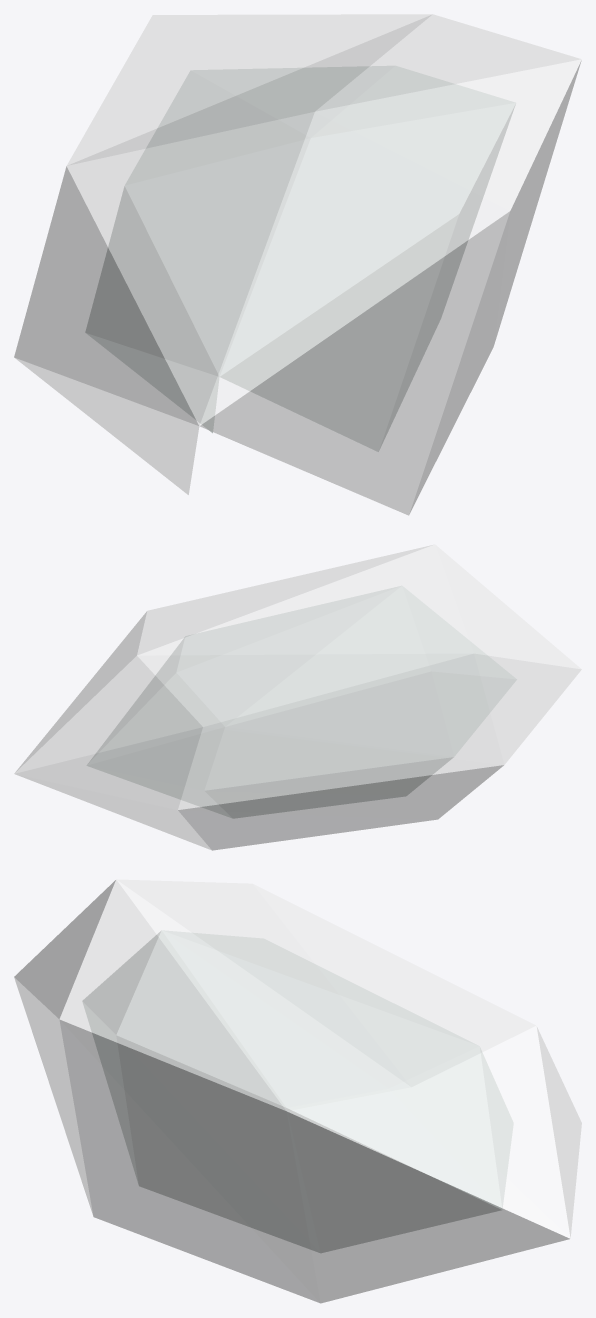
Rendered from crystal-teleport-seed.gltf.
3 renders of one model, top to bottom at view 1: azimuth 30°, elevation 25°; view 2: azimuth 150°, elevation 25°; view 3: azimuth 270°, elevation 25°, orthographic. The views are drawn at different scales.
Bounding box in the file's own units: 48 × 30 × 50.
1 material, 1 textured.
